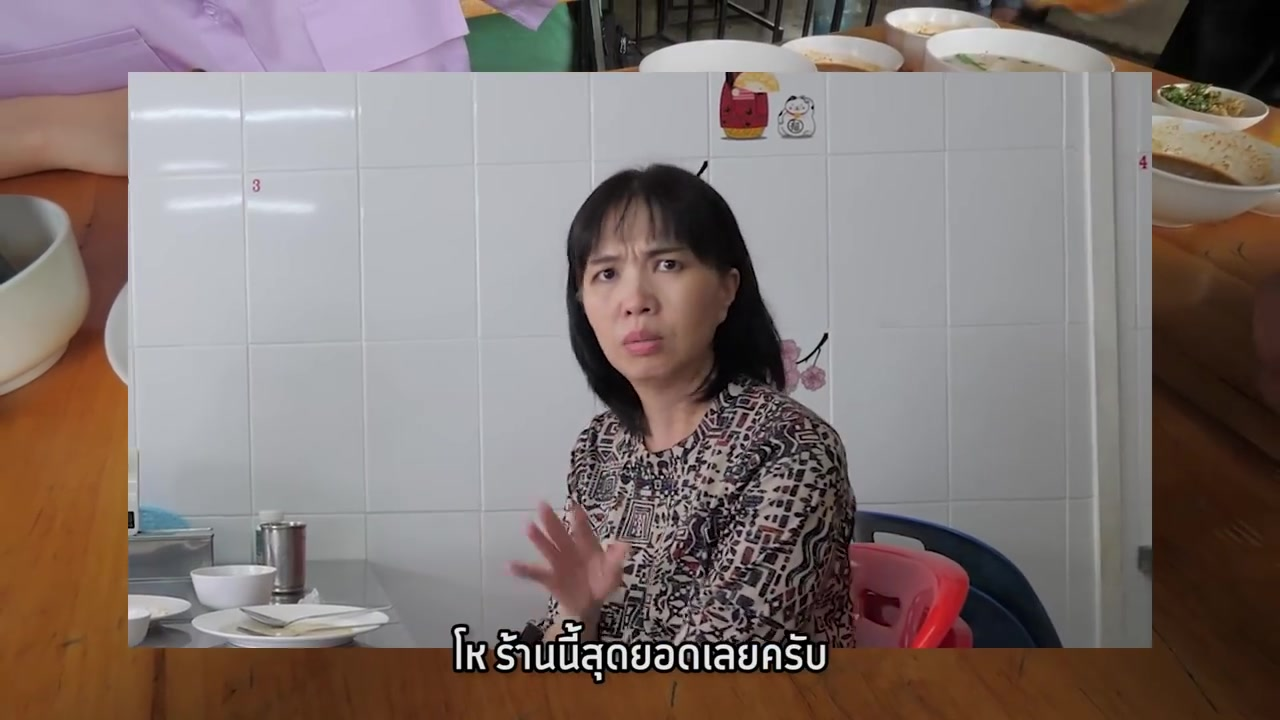text-label: (445, 614, 832, 686)
